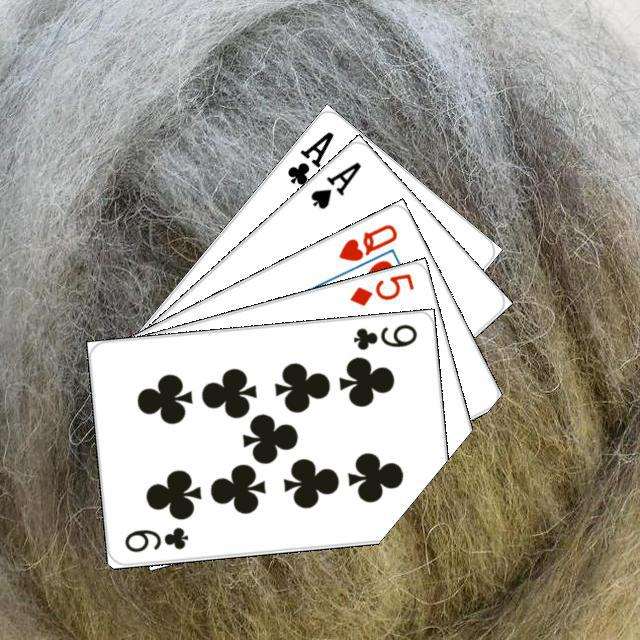5d: (345, 268, 416, 308)
9c: (348, 319, 419, 352), (119, 522, 190, 554)
Ac: (282, 126, 336, 187)
As: (305, 156, 364, 212)
Qh: (333, 219, 399, 264)
